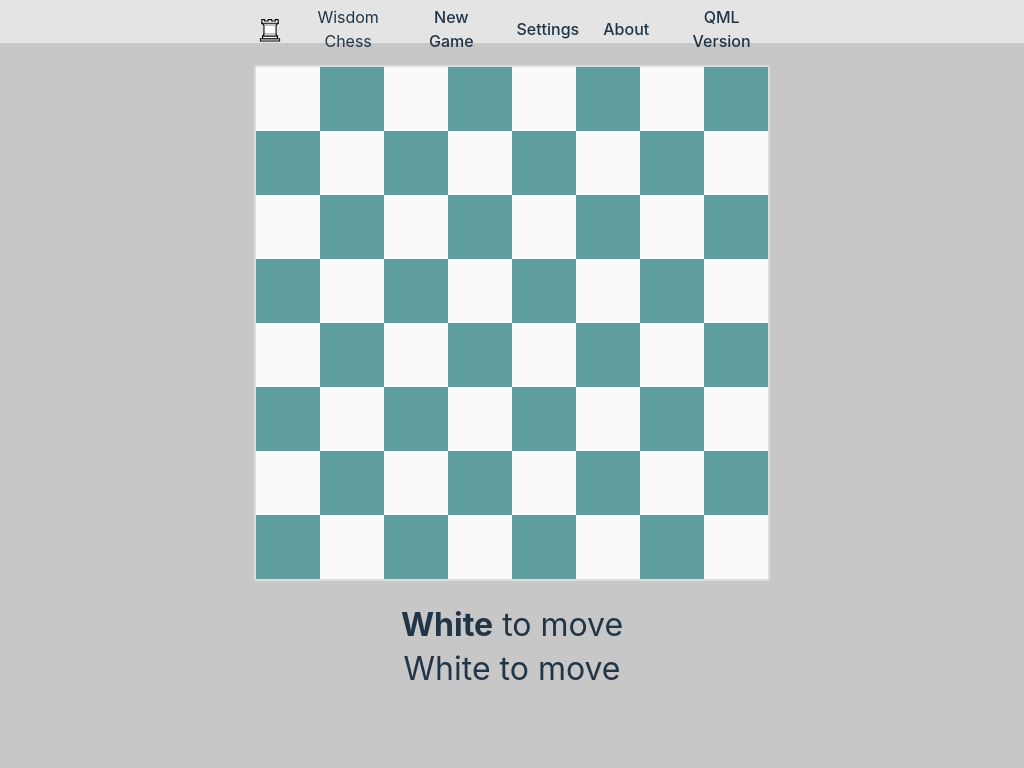
Test: App › opens settings modal when Settings button is clicked
The width and height of the screenshot is (1024, 768).
Click the link "Settings".
click(548, 29)  # box [516,17,579,41]
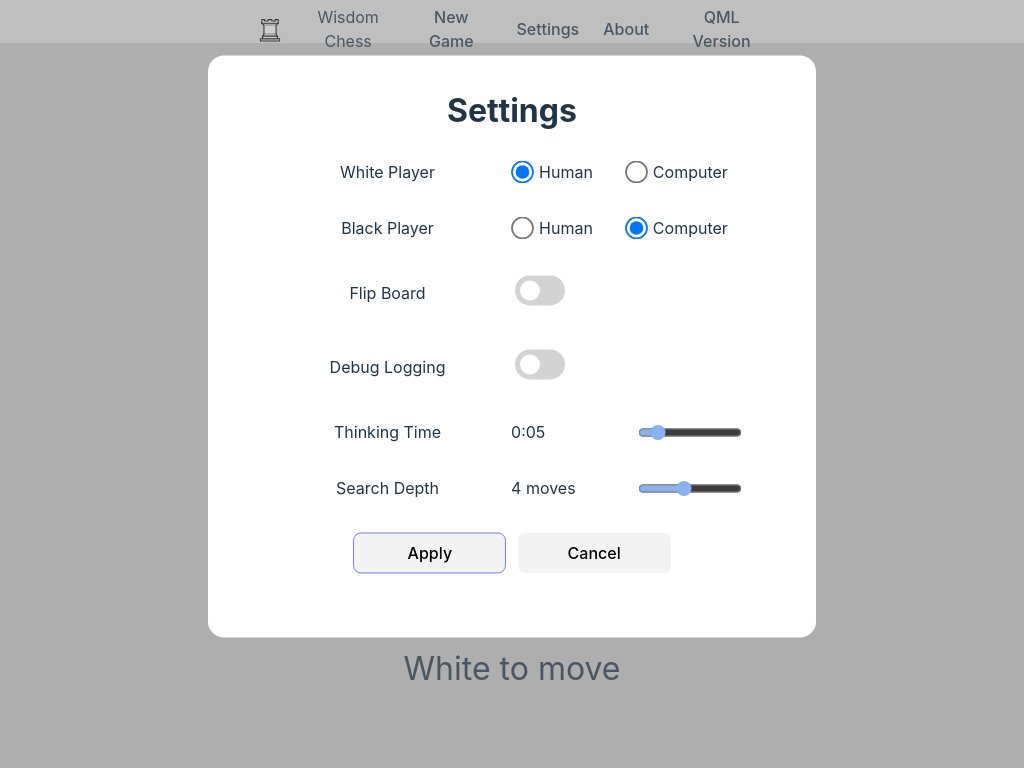
Check: the text "White Player" is shown, box [340,162,435,182]
Check: the text "Black Player" is shown, box [341,218,434,238]
